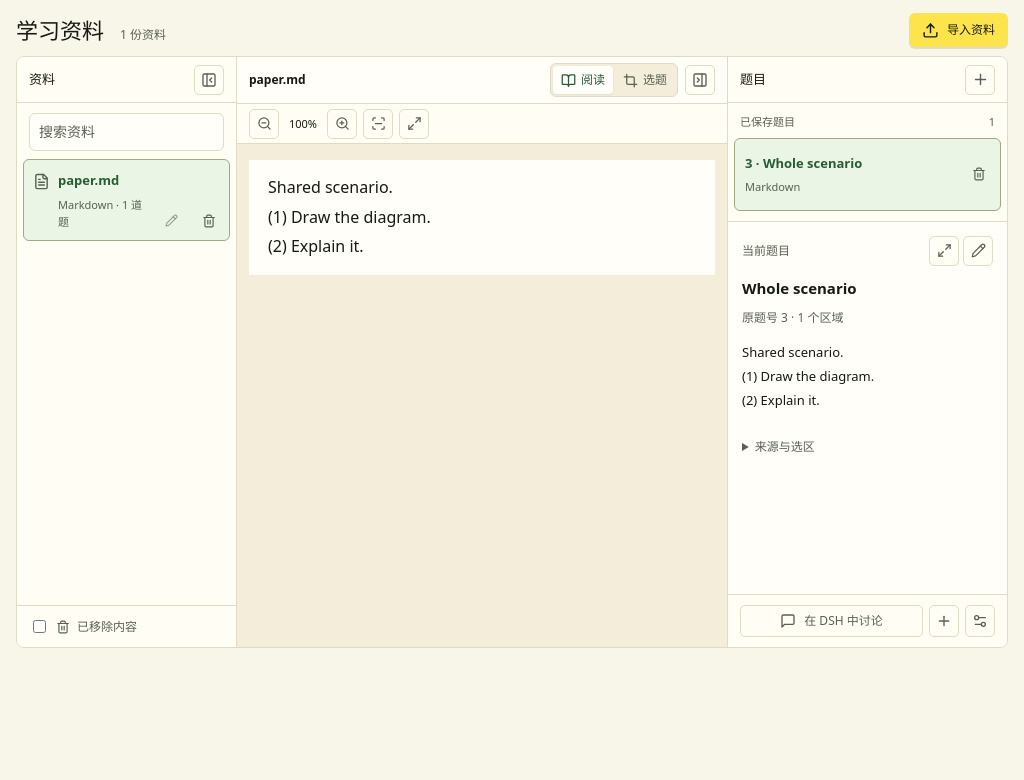
Test case: hides the bridge while editing or creating an unsaved question and restores it on cancel
The width and height of the screenshot is (1024, 780).
Click the button named "编辑题目" at (978, 251), box [963, 236, 993, 266]
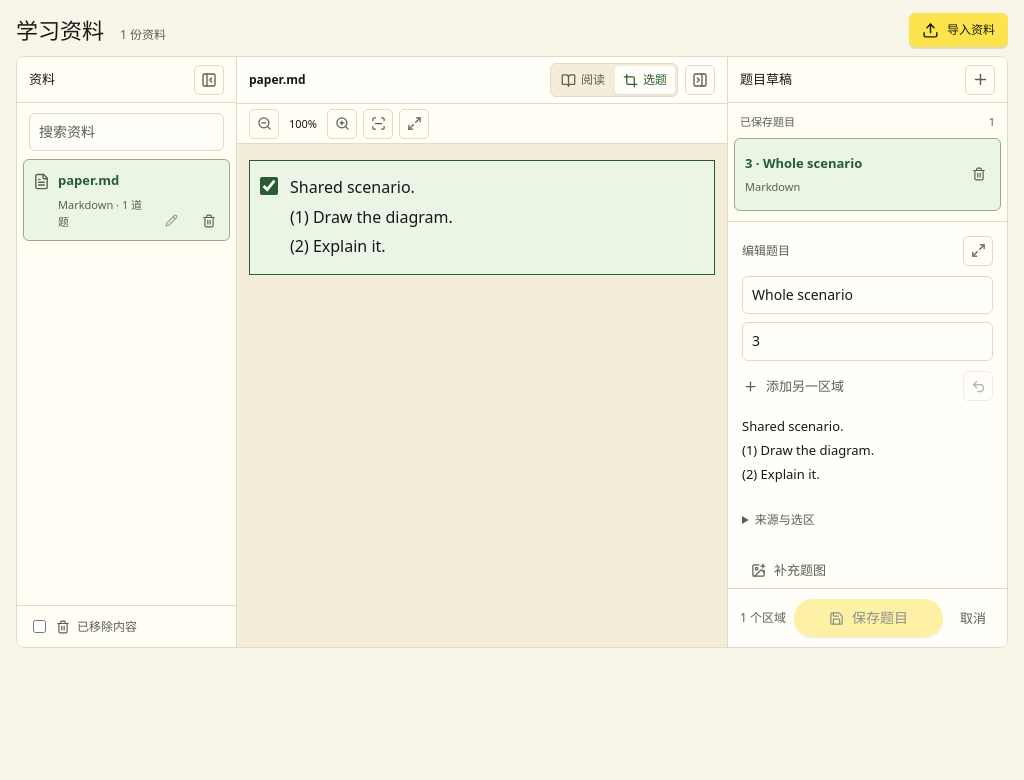
Check: the element with class "dsh-question-actions" is gone
Check: the button "取消" is enabled
Click the button "取消" at (973, 618), box [951, 601, 995, 635]
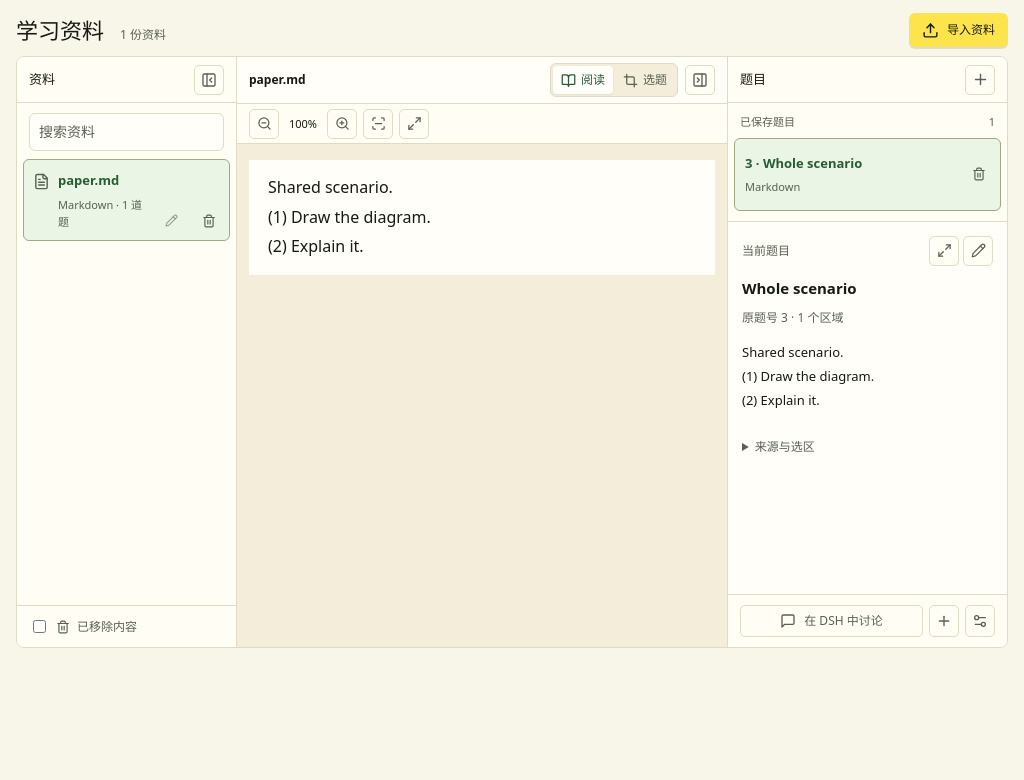
Check: the element with class "dsh-question-actions" is shown, box [728, 594, 1007, 647]
Click the button named "新建题目" at (980, 80), box [965, 64, 995, 94]
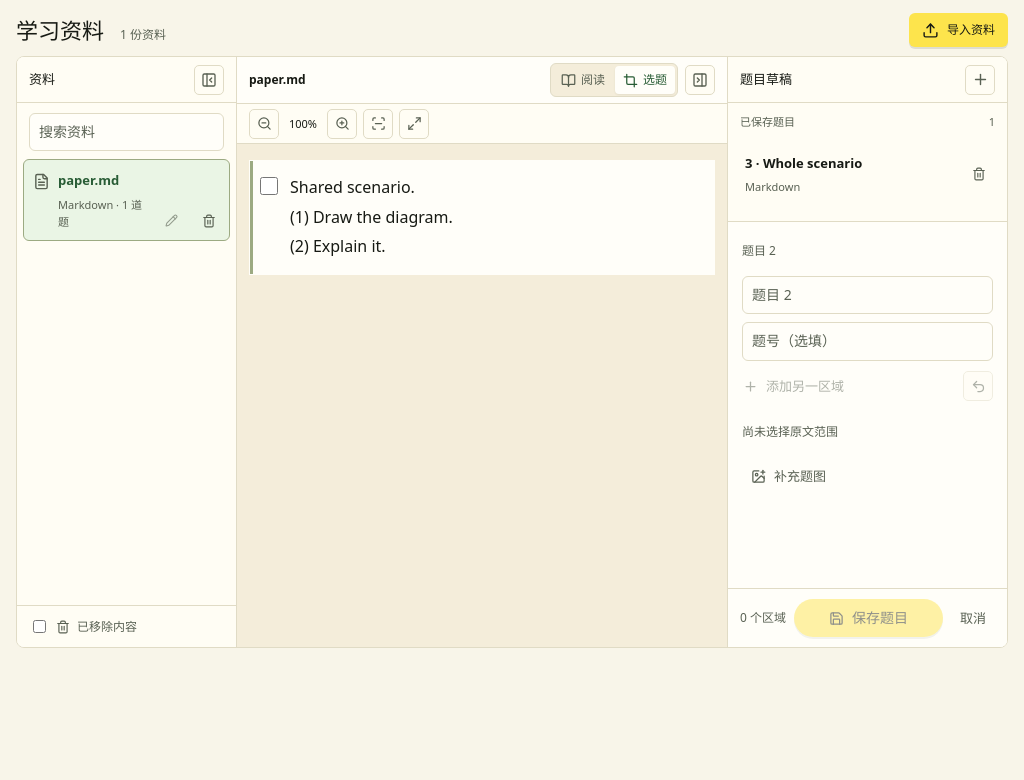
Check: the element with class "dsh-question-actions" is gone
